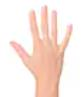down: (9, 3, 76, 84)
